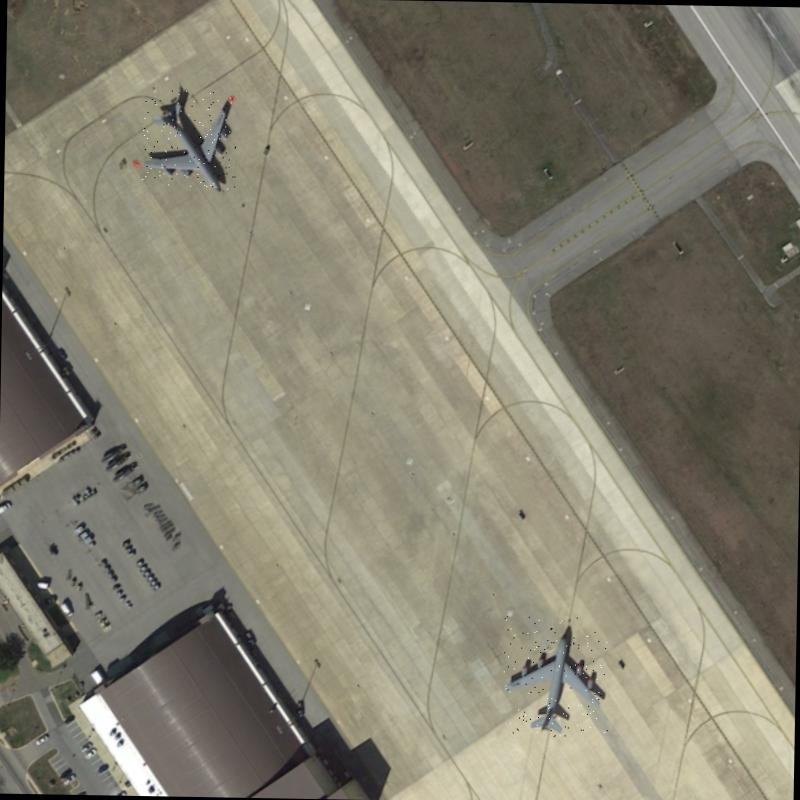A14: (502, 616, 609, 738), (142, 90, 236, 190)
